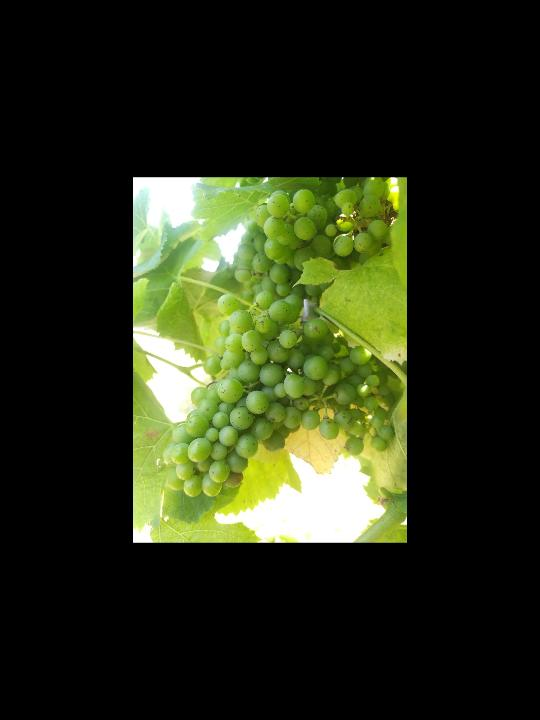grape: (161, 292, 396, 499)
